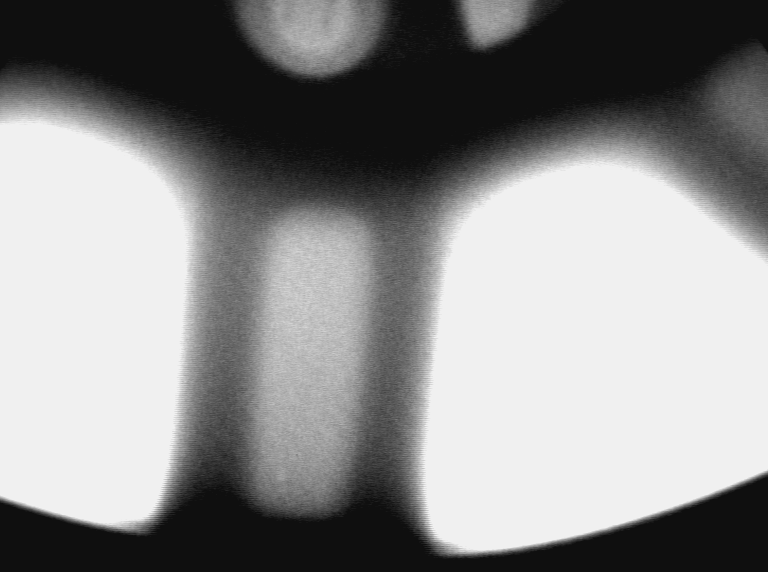defect: (273, 439, 293, 484)
